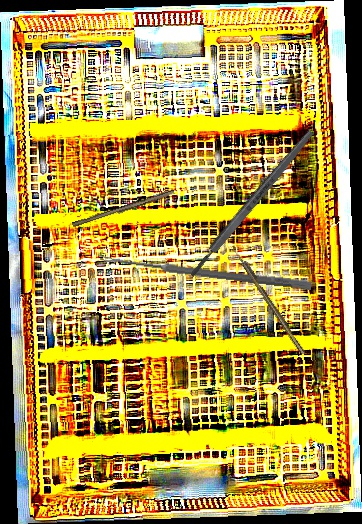Hook Surgical: (232, 246, 306, 356)
Scalpel Handle: (187, 128, 316, 279), (71, 187, 176, 231)
Surgical Spoon: (99, 254, 312, 290)
